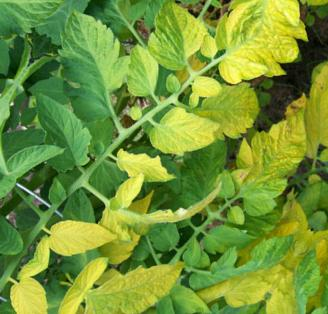Tomato leaf yellow virus: (212, 91, 328, 222), (192, 204, 307, 314), (41, 0, 151, 100), (138, 80, 237, 184), (77, 228, 184, 314), (36, 195, 124, 284)
